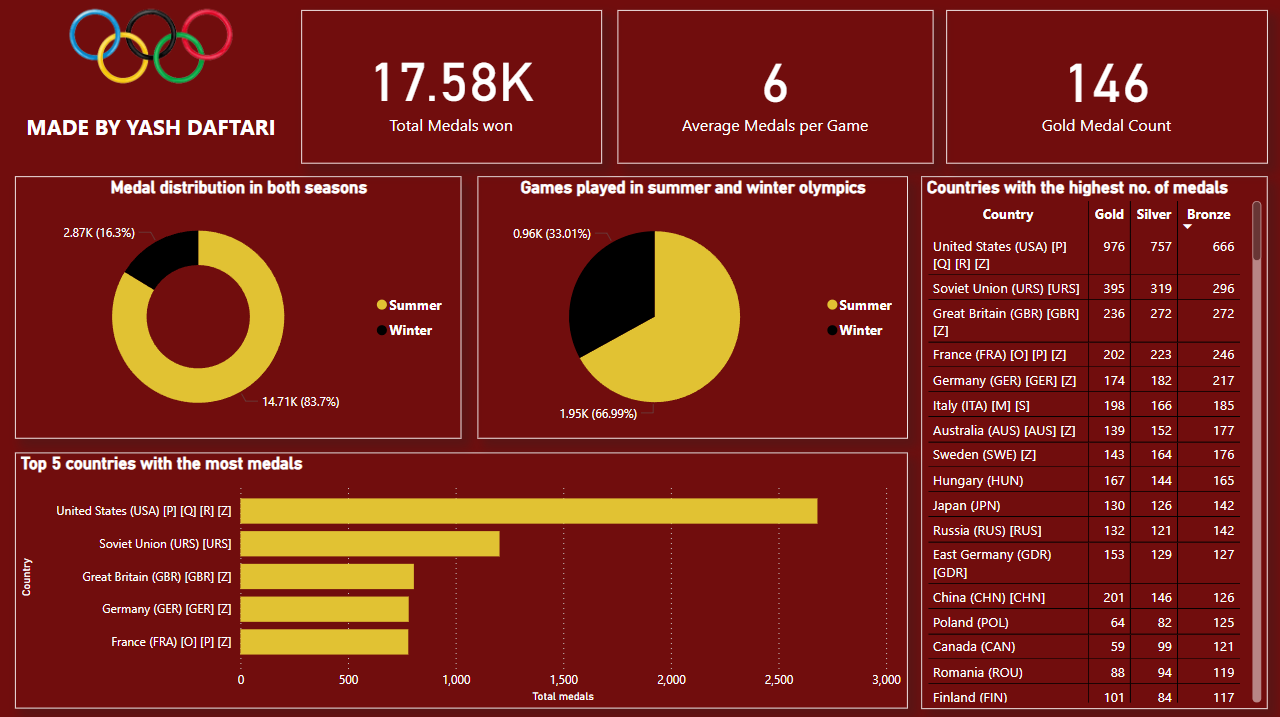

The page's visual inventory and layout, read from the dashboard file:
{"tool":"powerbi","page":{"name":"Dasboard Page 1","canvas":[1280,720],"ordinal":0},"visuals":[{"type":"textbox","box":[0,0,287.5,75],"z":0},{"type":"tableEx","title":"Countries with the highest no. of medals","fields":{"Values":["Olympics data  - Sheet1.Country","Sum(Olympics data  - Sheet1.Gold)","Sum(Olympics data  - Sheet1.Silver)","Sum(Olympics data  - Sheet1.Bronze)"]},"box":[921.2,176.2,346.2,532.5],"z":1000},{"type":"barChart","title":"Top 5 countries with the most medals","fields":{"Y":["Sum(Olympics data  - Sheet1.Combined total)"],"Category":["Olympics data  - Sheet1.Country"]},"box":[15,452.5,892.5,256.2],"z":2000},{"type":"pieChart","title":"Games played in summer and winter olympics","fields":{"Y":["Sum(Olympics data  - Sheet1.Summer (No. of matches played))","Sum(Olympics data  - Sheet1.Winter (No. of matches played))"]},"box":[477.5,176.2,430,262.5],"z":3000},{"type":"donutChart","title":"Medal distribution in both seasons","fields":{"Y":["Sum(Olympics data  - Sheet1.Summer total)","Sum(Olympics data  - Sheet1.Winter total)"]},"box":[15,176.2,446.2,262.5],"z":4000},{"type":"image","box":[14.7,0,272.4,95.7],"z":5000},{"type":"card","fields":{"Values":["Sum(Olympics data  - Sheet1.Total medals)"]},"box":[301.8,9.8,300.6,153.4],"z":6000},{"type":"card","fields":{"Values":["Olympics data  - Sheet1.Average Medals per Game"]},"box":[617.5,10,316.2,153.8],"z":7000},{"type":"card","fields":{"Values":["CountNonNull(Olympics data  - Sheet1.Gold_4)"]},"box":[946.2,10,321.2,153.8],"z":8000},{"type":"textbox","box":[0,95.7,301.8,67.5],"z":9000}]}

Visuals, with their boxes in screenshot pixels (x1, y1, x2, y2), scaled from the page's 1280x720 canvas onto the 1280x717 screenshot:
textbox: [x1=0, y1=0, x2=288, y2=75]
"Countries with the highest no. of medals" tableEx: [x1=921, y1=175, x2=1267, y2=706]
"Top 5 countries with the most medals" barChart: [x1=15, y1=451, x2=908, y2=706]
"Games played in summer and winter olympics" pieChart: [x1=478, y1=175, x2=908, y2=437]
"Medal distribution in both seasons" donutChart: [x1=15, y1=175, x2=461, y2=437]
image: [x1=15, y1=0, x2=287, y2=95]
card - Sum(Olympics data  - Sheet1.Total medals): [x1=302, y1=10, x2=602, y2=163]
card - Olympics data  - Sheet1.Average Medals per Game: [x1=618, y1=10, x2=934, y2=163]
card - CountNonNull(Olympics data  - Sheet1.Gold_4): [x1=946, y1=10, x2=1267, y2=163]
textbox: [x1=0, y1=95, x2=302, y2=163]
